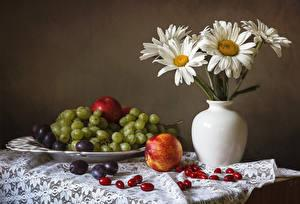chamomile: (203, 27, 247, 64), (161, 45, 200, 79), (246, 19, 281, 48)
